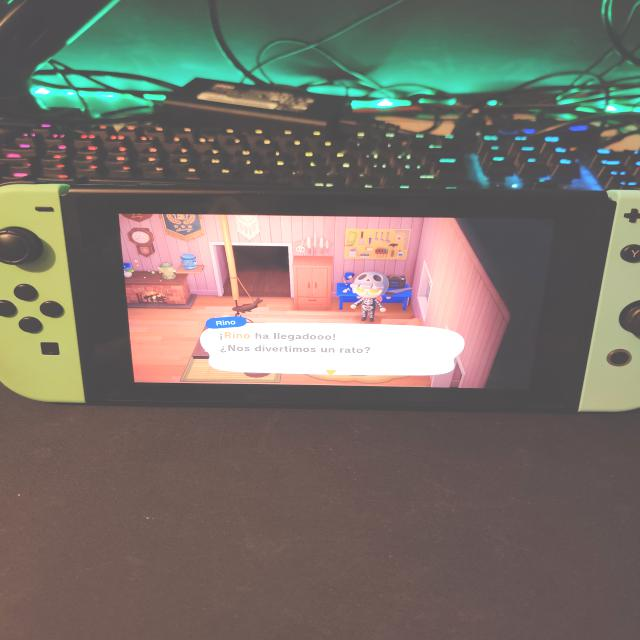text_bubble: (200, 315, 468, 378)
